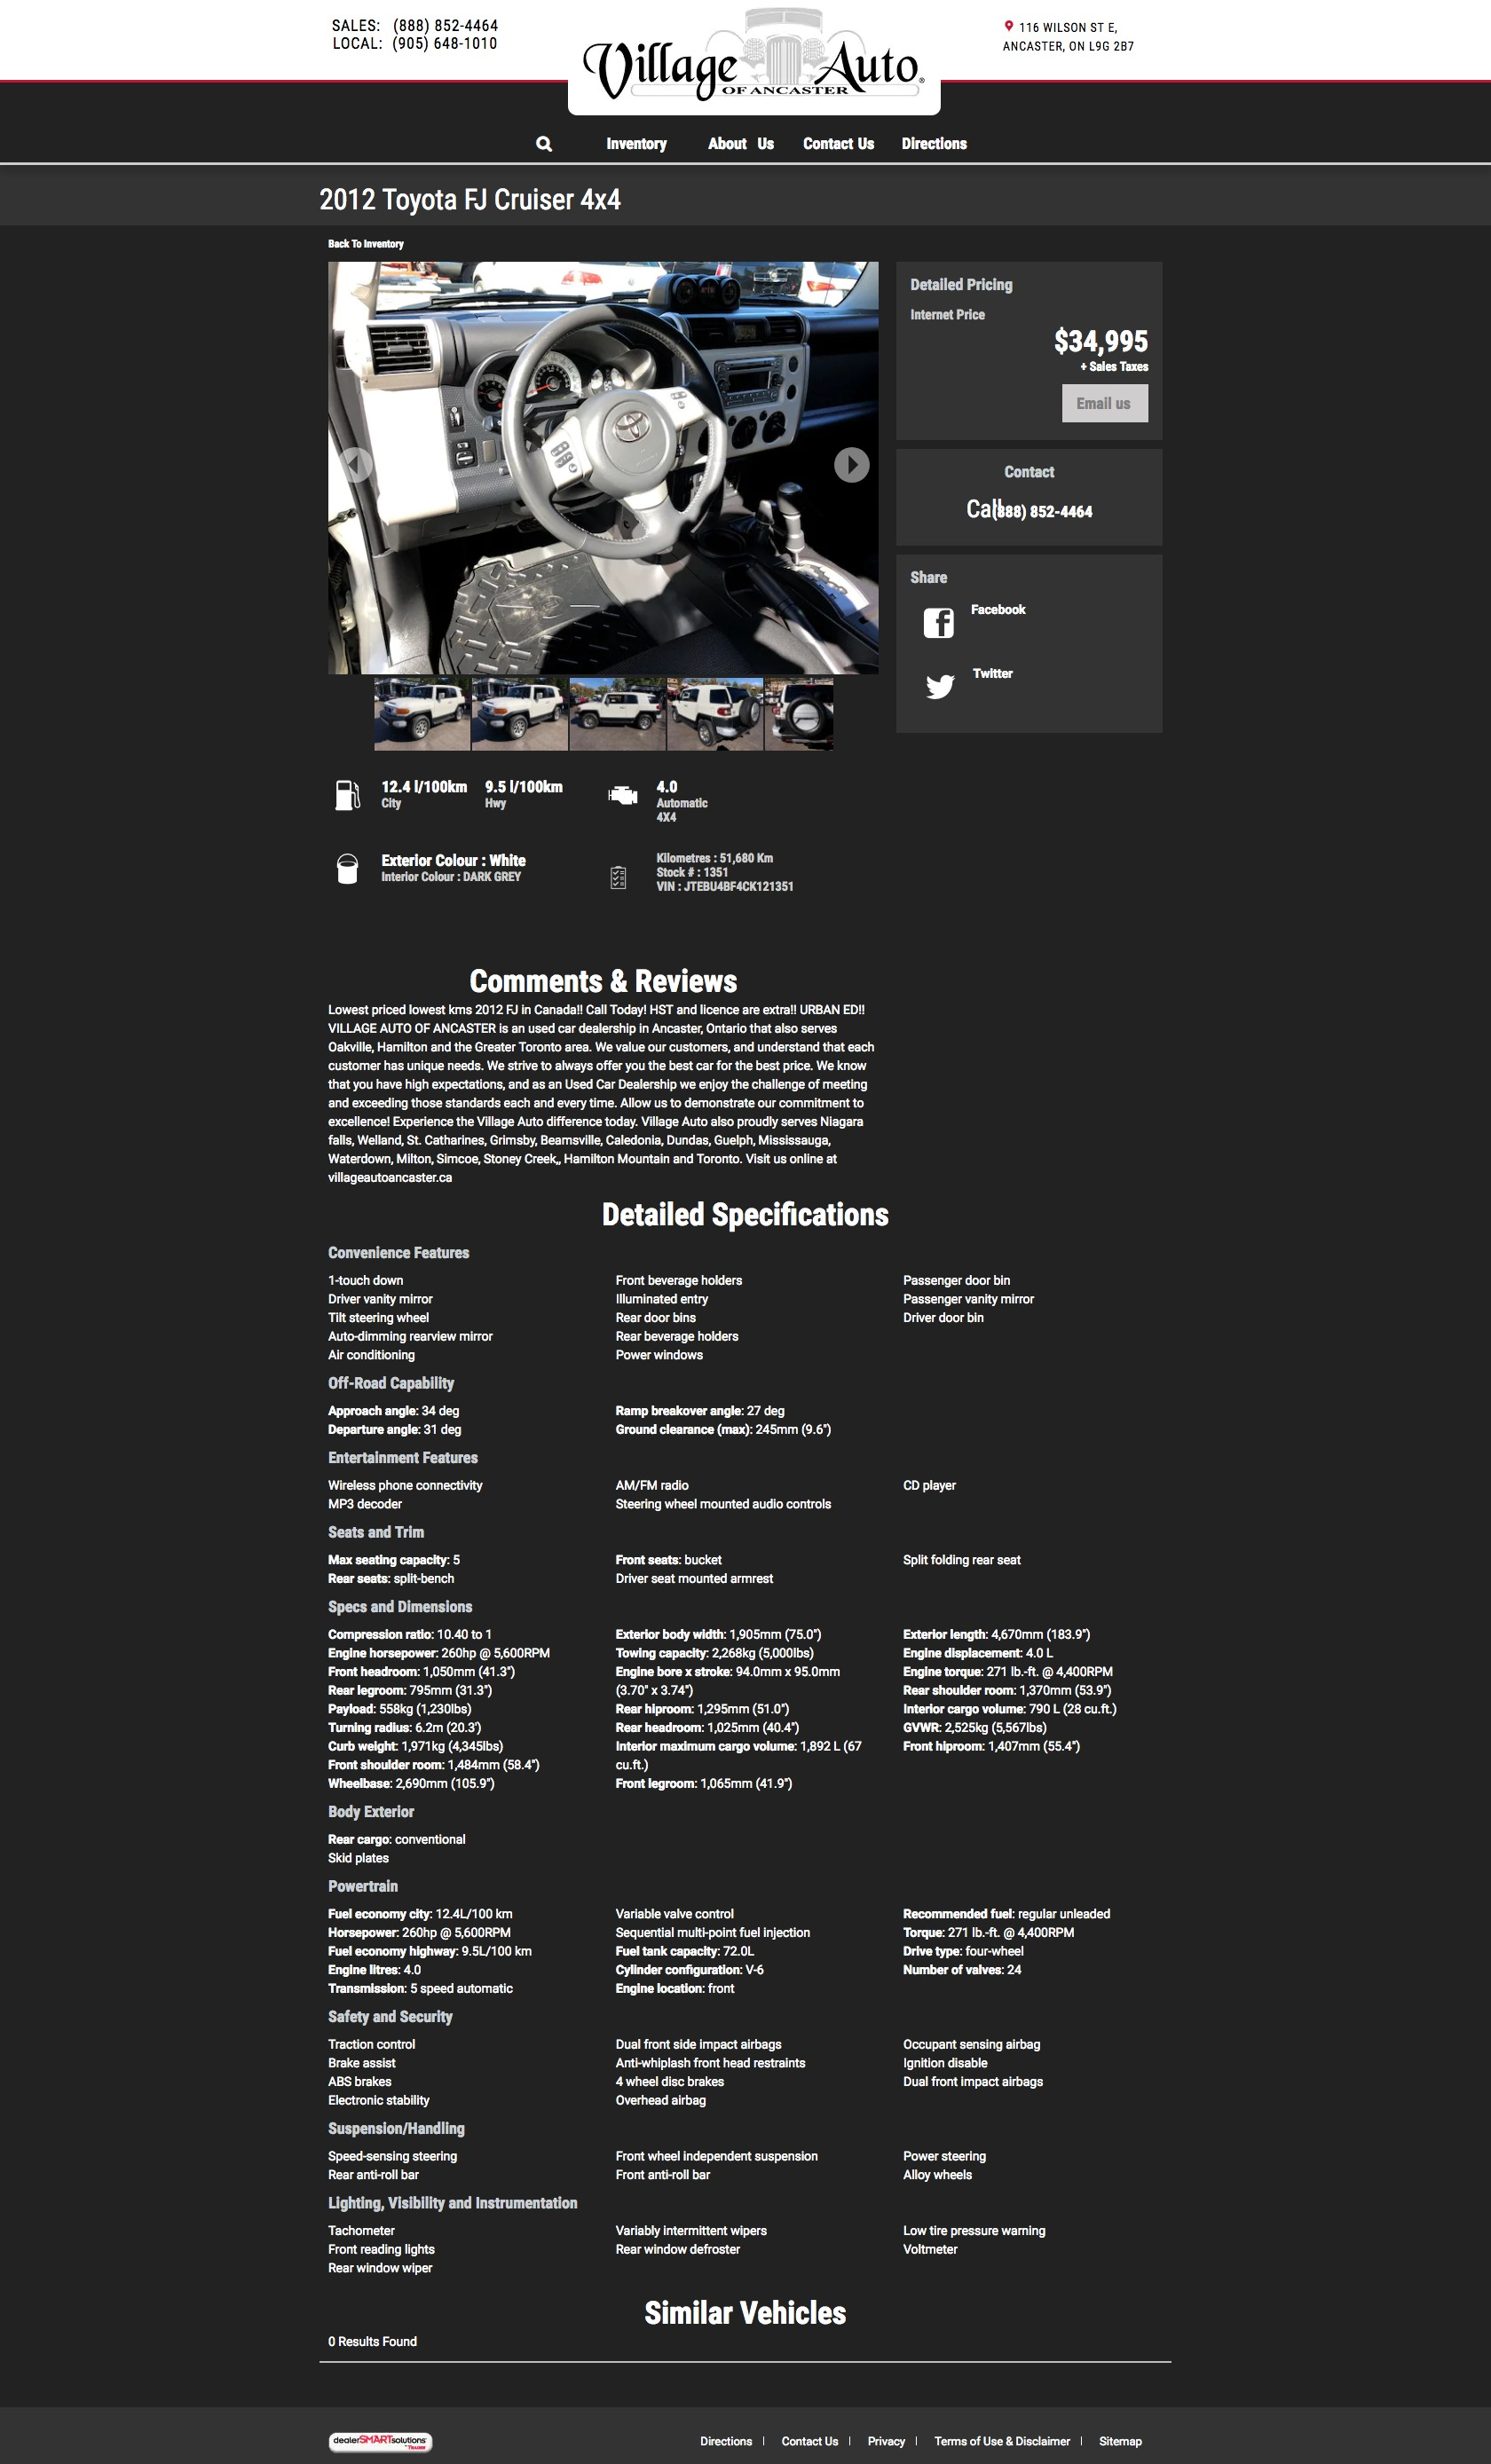car: (833, 447, 873, 484)
